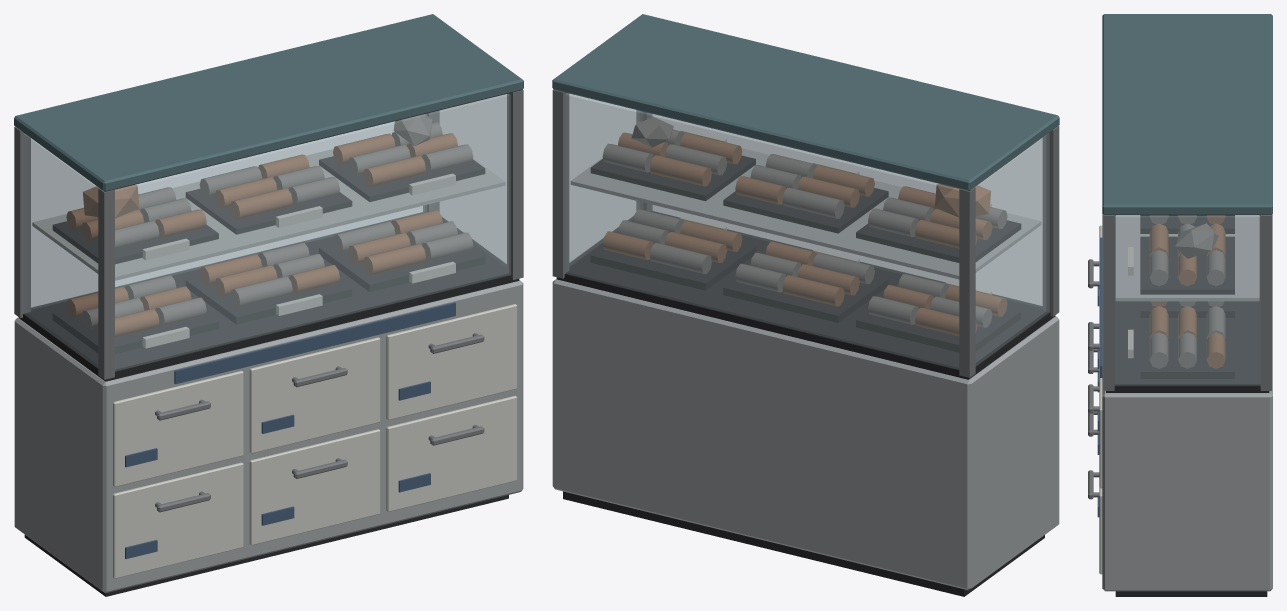
Rendered from astro_specimen_case.fbx.
3 renders of one model, left to right at view 1: azimuth 30°, elevation 25°; view 2: azimuth 150°, elevation 25°; view 3: azimuth 270°, elevation 25°, orthographic. The views are drawn at different scales.
Parts seen in each view (by area): view 1: SpecimenCase_Body; view 2: SpecimenCase_Body; view 3: SpecimenCase_Body.
Boxes of the visible parts, x1=… form: SpecimenCase_Body: x1=14, y1=14, x2=523, y2=596; SpecimenCase_Body: x1=552, y1=14, x2=1059, y2=596; SpecimenCase_Body: x1=1088, y1=14, x2=1272, y2=596.
Size of the model in its own units: 240 by 230 by 97.5.
